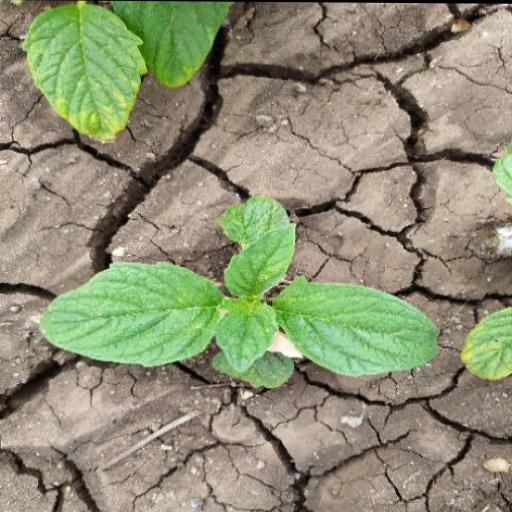crop: (38, 197, 437, 402), (18, 0, 249, 140)
